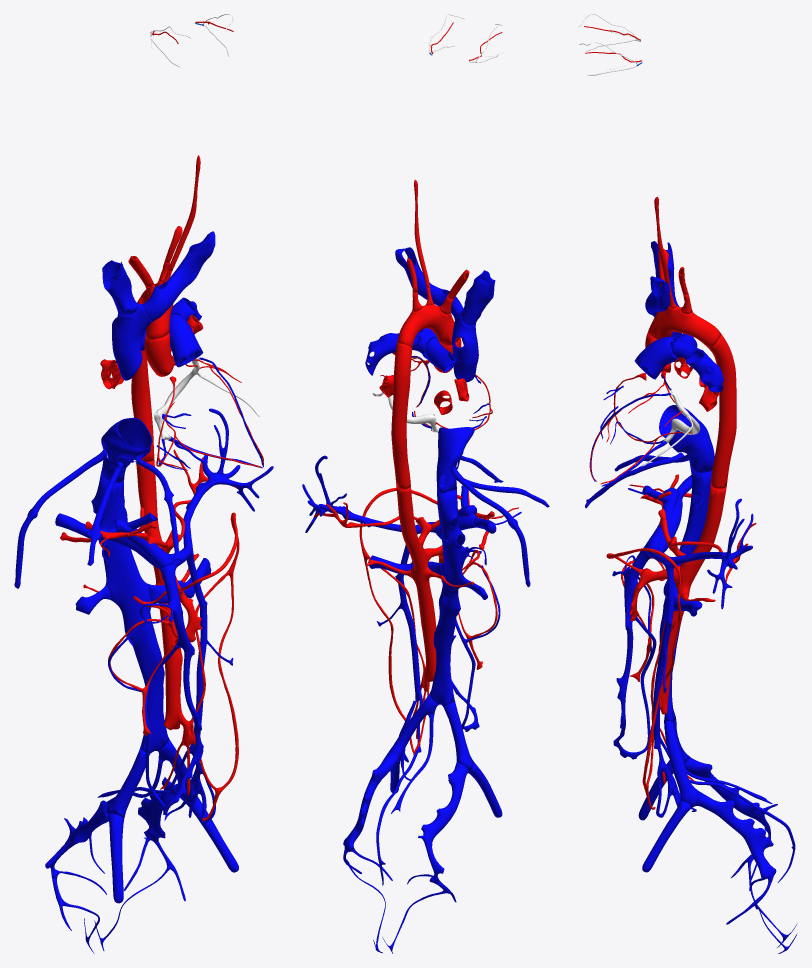
The model's file is vh_m_blood_vasculature-40.fbx.
3 views of the same model, side by side, from view 1: azimuth 30°, elevation 25°; view 2: azimuth 150°, elevation 25°; view 3: azimuth 270°, elevation 25° (orthographic). The views are drawn at different scales.
Parts seen in each view (by area): view 1: VH_M_inferior_vena_cava_b, VH_M_descending_aorta_b, VH_M_superior_mesenteric_vein, VH_M_inferior_vena_cava_a, VH_M_splenic_vein, VH_M_brachiocephalic_vein_L, VH_M_superior_vena_cava, VH_M_marginal_artery_of_Drummond, VH_M_descending_aorta_a, VH_M_brachiocephalic_vein_R, VH_M_inferior_mesenteric_vein, VH_M_right_hepatic_vein (+18 smaller); view 2: VH_M_inferior_vena_cava_b, VH_M_descending_aorta_b, VH_M_descending_aorta_a, VH_M_inferior_vena_cava_a, VH_M_internal_iliac_vein_R, VH_M_aortic_arch, VH_M_superior_vena_cava, VH_M_splenic_vein, VH_M_internal_iliac_vein_L, VH_M_brachiocephalic_vein_R, VH_M_brachiocephalic_vein_L, VH_M_marginal_artery_of_Drummond (+8 smaller); view 3: VH_M_descending_aorta_a, VH_M_descending_aorta_b, VH_M_inferior_vena_cava_b, VH_M_inferior_vena_cava_a, VH_M_internal_iliac_vein_L, VH_M_aortic_arch, VH_M_splenic_vein, VH_M_superior_mesenteric_vein, VH_M_pulmonary_artery_L, VH_M_inferior_mesenteric_vein, VH_M_internal_iliac_vein_R, VH_M_marginal_artery_of_Drummond (+12 smaller).
Part boxes in pixels (box(x1,y1,x2,y2)): VH_M_inferior_vena_cava_b: box(91, 474, 169, 753); VH_M_descending_aorta_b: box(136, 460, 182, 730); VH_M_superior_mesenteric_vein: box(158, 564, 203, 812); VH_M_inferior_vena_cava_a: box(101, 417, 152, 482); VH_M_splenic_vein: box(170, 408, 273, 567); VH_M_brachiocephalic_vein_L: box(142, 231, 215, 321); VH_M_superior_vena_cava: box(112, 302, 152, 380); VH_M_marginal_artery_of_Drummond: box(179, 512, 239, 821); VH_M_descending_aorta_a: box(131, 297, 154, 461); VH_M_brachiocephalic_vein_R: box(102, 260, 137, 315); VH_M_inferior_mesenteric_vein: box(186, 548, 207, 755); VH_M_right_hepatic_vein: box(14, 449, 107, 588); VH_M_inferior_vena_cava_b: box(429, 487, 465, 707); VH_M_descending_aorta_b: box(396, 485, 436, 682); VH_M_descending_aorta_a: box(391, 343, 412, 489); VH_M_inferior_vena_cava_a: box(436, 427, 474, 493); VH_M_internal_iliac_vein_R: box(418, 762, 467, 883); VH_M_aortic_arch: box(397, 304, 459, 348); VH_M_superior_vena_cava: box(452, 310, 478, 382); VH_M_splenic_vein: box(302, 455, 440, 534); VH_M_internal_iliac_vein_L: box(343, 752, 399, 853); VH_M_brachiocephalic_vein_R: box(461, 270, 495, 325); VH_M_brachiocephalic_vein_L: box(395, 247, 463, 319); VH_M_marginal_artery_of_Drummond: box(359, 487, 437, 753); VH_M_descending_aorta_a: box(709, 334, 736, 488); VH_M_descending_aorta_b: box(657, 485, 726, 714); VH_M_inferior_vena_cava_b: box(659, 470, 712, 722); VH_M_inferior_vena_cava_a: box(659, 405, 714, 472); VH_M_internal_iliac_vein_L: box(696, 791, 776, 881); VH_M_aortic_arch: box(647, 306, 721, 348); VH_M_splenic_vein: box(645, 498, 753, 609); VH_M_superior_mesenteric_vein: box(613, 545, 651, 753); VH_M_pulmonary_artery_L: box(670, 338, 723, 392); VH_M_inferior_mesenteric_vein: box(653, 561, 673, 749); VH_M_internal_iliac_vein_R: box(684, 757, 777, 847); VH_M_marginal_artery_of_Drummond: box(606, 548, 681, 809).
Bounding box in the file's own units: 23.62 × 87.18 × 18.73.
